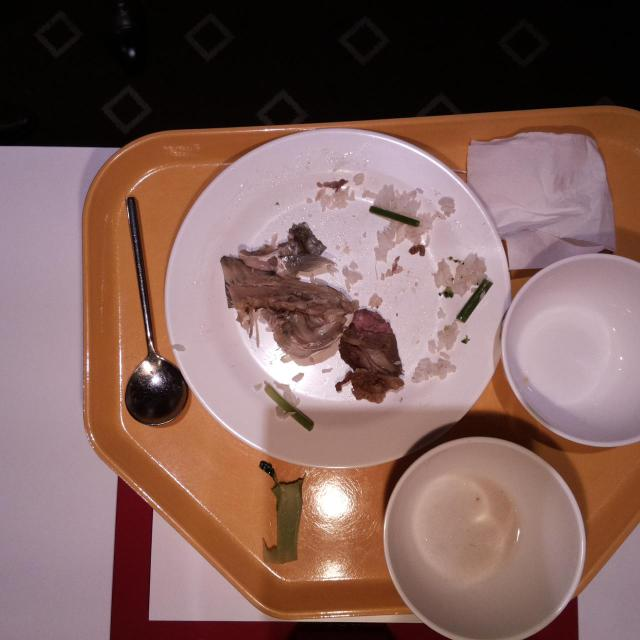Bone: (219, 254, 349, 319), (245, 225, 317, 273)
Meat: (338, 308, 406, 404)
Vegetable: (260, 460, 306, 568), (263, 381, 315, 433), (458, 278, 492, 324), (369, 204, 421, 228)
